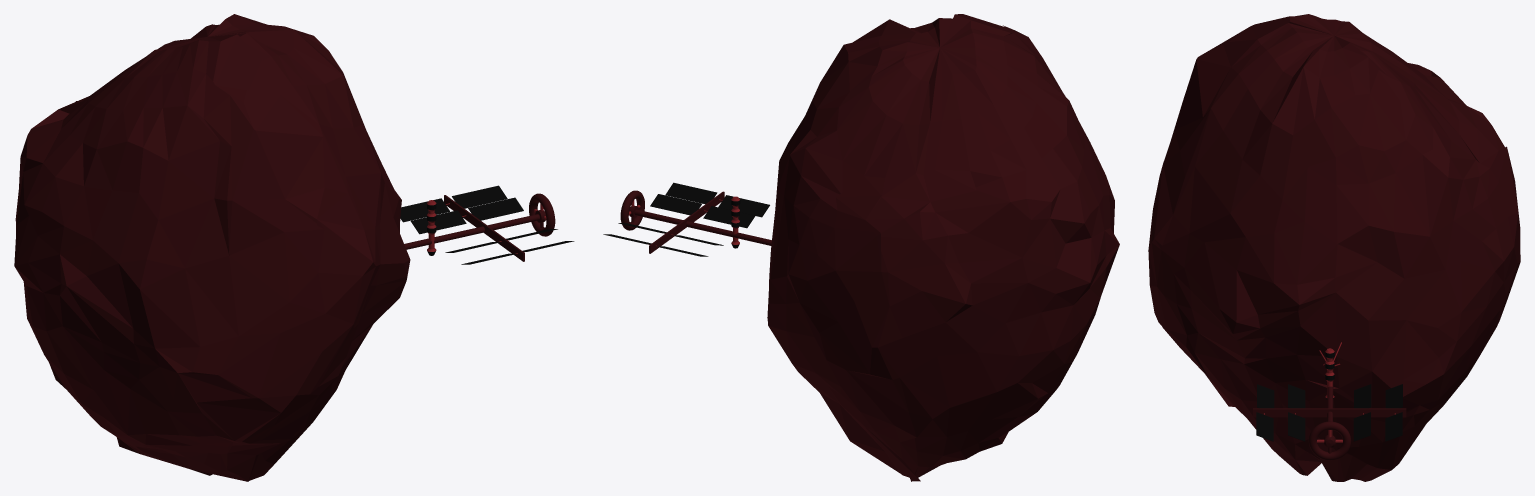
File: Seveneves_Izzy.dae
The picture shows the model from 3 angles, left to right: view 1: azimuth 30°, elevation 25°; view 2: azimuth 150°, elevation 25°; view 3: azimuth 270°, elevation 25°; orthographic projection. The views are drawn at different scales.
Parts seen in each view (by area): view 1: Torus; view 2: Torus; view 3: Torus.
Part boxes in pixels (x1,y1,x2,y2): Torus: [14, 14, 574, 481]; Torus: [603, 14, 1119, 481]; Torus: [1148, 14, 1520, 481].
Size of the model in its own units: 33.71 by 21.9 by 29.58.
